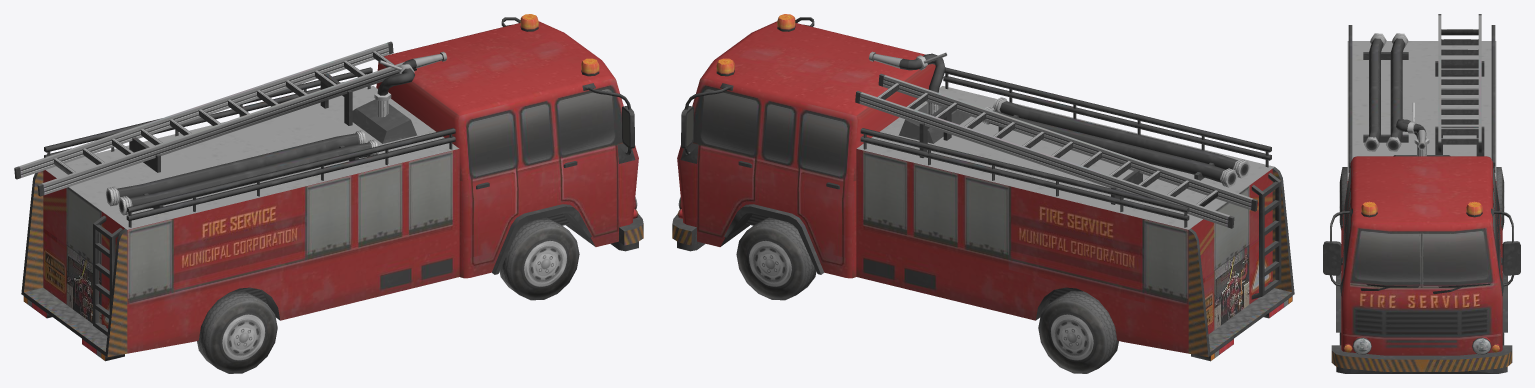
File: sf_emergency_03.glb
The picture shows the model from 3 angles, left to right: view 1: azimuth 30°, elevation 25°; view 2: azimuth 150°, elevation 25°; view 3: azimuth 270°, elevation 25°; orthographic projection. The views are drawn at different scales.
Parts seen in each view (by area): view 1: traffic_emergency_03, traffic_emergency_03_Rear_R_traffic_emergency_01_component_2, traffic_emergency_03_Front_R_traffic_emergency_01_component_, traffic_emergency_03_light_siren_traffic_emergency_01_light_; view 2: traffic_emergency_03, traffic_emergency_03_Rear_L_traffic_emergency_01_component_2, traffic_emergency_03_Front_L_traffic_emergency_01_component_, traffic_emergency_03_light_siren_traffic_emergency_01_light_; view 3: traffic_emergency_03, traffic_emergency_03_light, traffic_emergency_03_light_siren_traffic_emergency_01_light_, traffic_emergency_03_Rear_L_traffic_emergency_01_component_2, traffic_emergency_03_Rear_R_traffic_emergency_01_component_2.
Boxes of the visible parts, x1,y1,x2,y2 form: traffic_emergency_03: (14,17,643,361); traffic_emergency_03_Rear_R_traffic_emergency_01_component_2: (197,291,277,373); traffic_emergency_03_Front_R_traffic_emergency_01_component_: (499,217,579,300); traffic_emergency_03_light_siren_traffic_emergency_01_light_: (520,14,599,74); traffic_emergency_03: (672,17,1294,361); traffic_emergency_03_Rear_L_traffic_emergency_01_component_2: (1038,291,1118,373); traffic_emergency_03_Front_L_traffic_emergency_01_component_: (736,217,816,300); traffic_emergency_03_light_siren_traffic_emergency_01_light_: (716,14,795,74); traffic_emergency_03: (1323,14,1520,373); traffic_emergency_03_light: (1352,337,1491,354); traffic_emergency_03_light_siren_traffic_emergency_01_light_: (1361,201,1482,215); traffic_emergency_03_Rear_L_traffic_emergency_01_component_2: (1496,167,1504,229); traffic_emergency_03_Rear_R_traffic_emergency_01_component_2: (1339,167,1347,229).
Size of the model in its own units: 6.99 by 2.87 by 2.49.
Materials: 3 (3 with a texture image).
